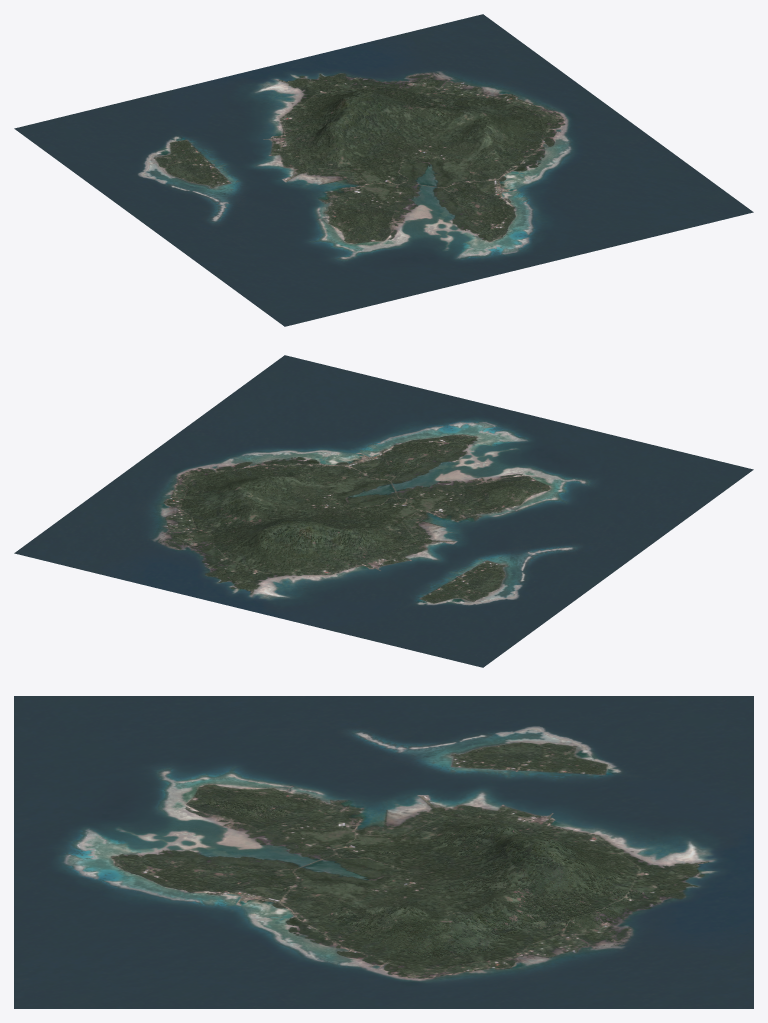
File: SOU_TERRAIN_B.FBX
3 renders of one model, top to bottom at view 1: azimuth 30°, elevation 25°; view 2: azimuth 150°, elevation 25°; view 3: azimuth 270°, elevation 25°, orthographic. The views are drawn at different scales.
Parts seen in each view (by area): view 1: SOU_TER_D04; view 2: SOU_TER_D04; view 3: SOU_TER_D04.
Boxes of the visible parts, x1,y1,x2,y2 form: SOU_TER_D04: (14, 14, 753, 326); SOU_TER_D04: (14, 355, 753, 667); SOU_TER_D04: (14, 696, 753, 1008).
Bounding box in the file's own units: 50000 × 2269 × 50000.
Materials: 2 (2 with a texture image).
